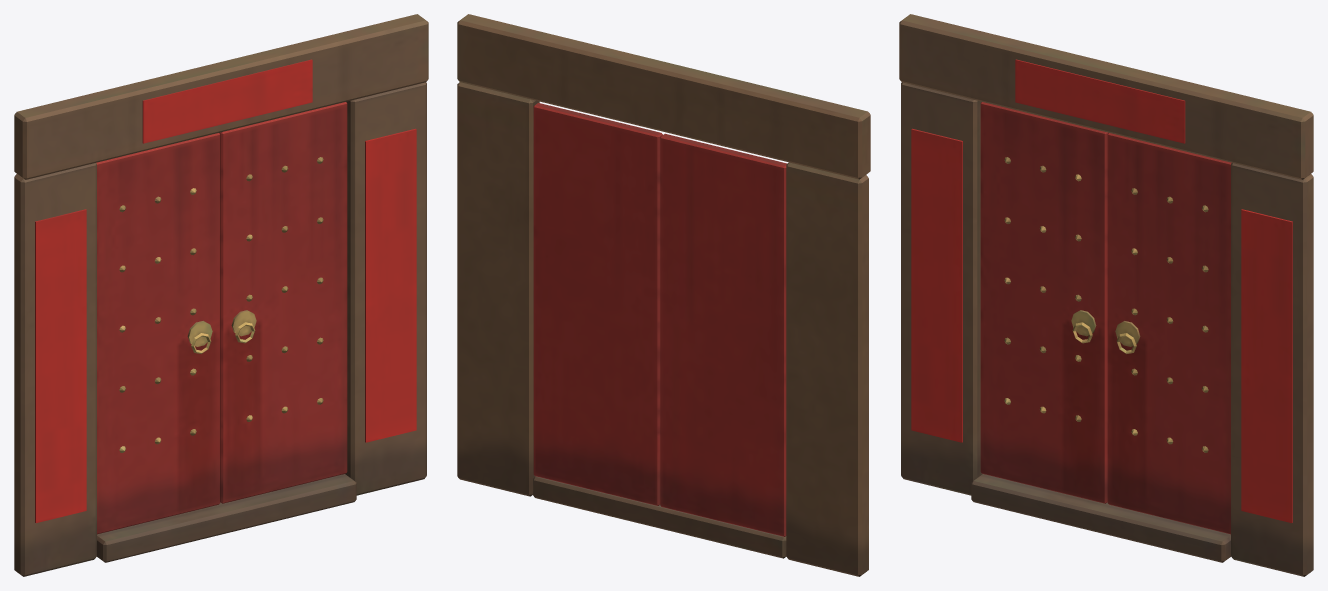
Rendered from red_door.glb.
3 renders of one model, left to right at view 1: azimuth 30°, elevation 25°; view 2: azimuth 150°, elevation 25°; view 3: azimuth 330°, elevation 25°, orthographic.
Visible parts, largest first — view 1: red_door; view 2: red_door; view 3: red_door.
Boxes of the visible parts, x1,y1,x2,y2 form: red_door: (14,14,428,576); red_door: (457,14,870,576); red_door: (899,14,1313,576).
Bounding box in the file's own units: 2.4 × 2.6 × 0.16.
4 materials, 4 textured.
